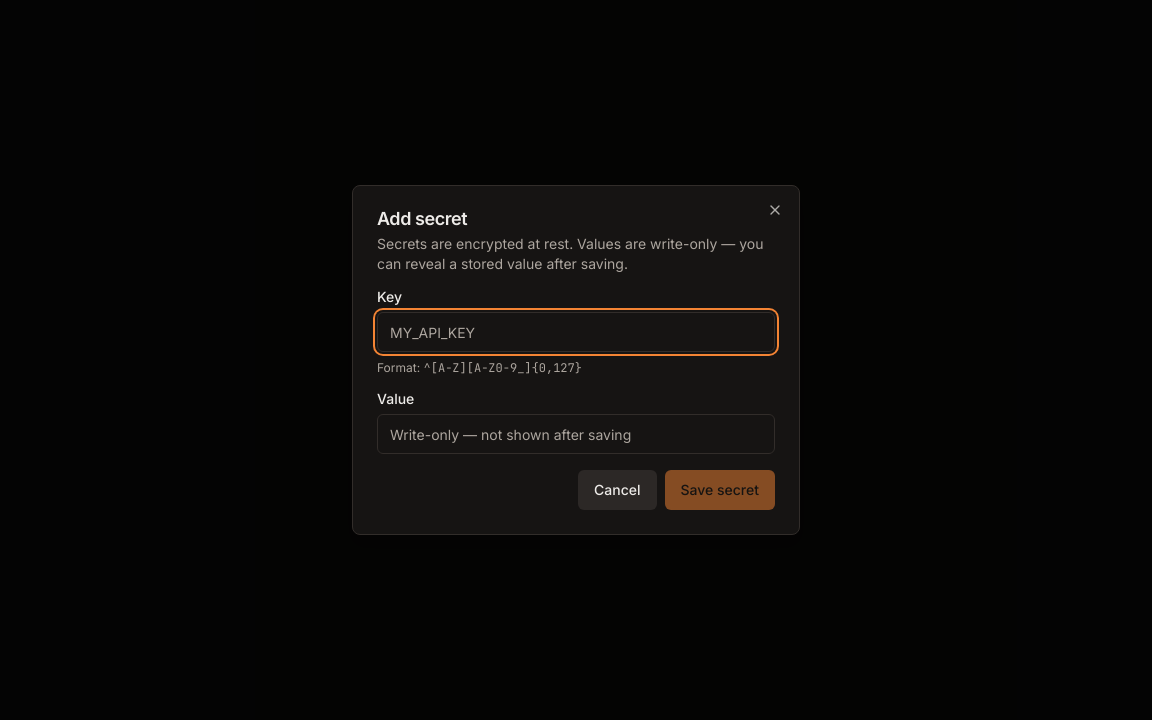
it: AddSecretModal — key pattern validation › rejects a key that starts with a lowercase letter
This screenshot has width=1152, height=720.
Note: type a lowercase key - component uppercases on change but validate checks
Type "invalid_key" into the field labelled "Key".
click(576, 332); type("invalid_key")  # box [377,312,775,352]
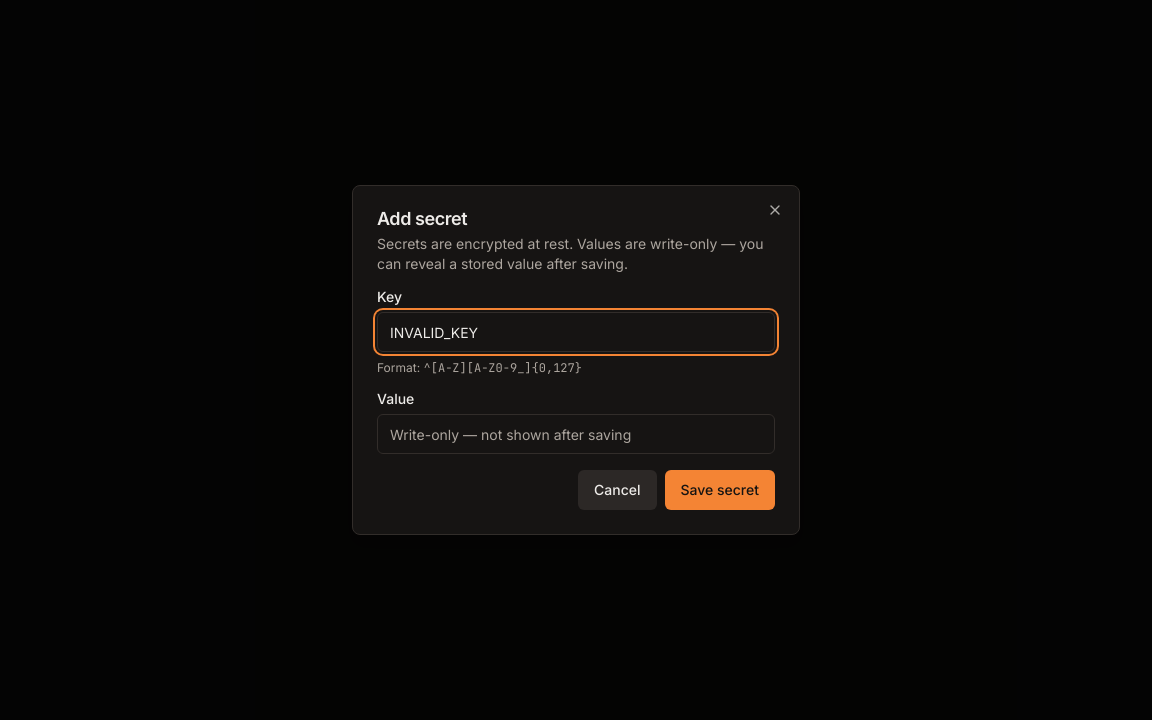
Replace the text in the field labelled "Key" with "1_BAD" at (576, 332), box [377,312,775,352]
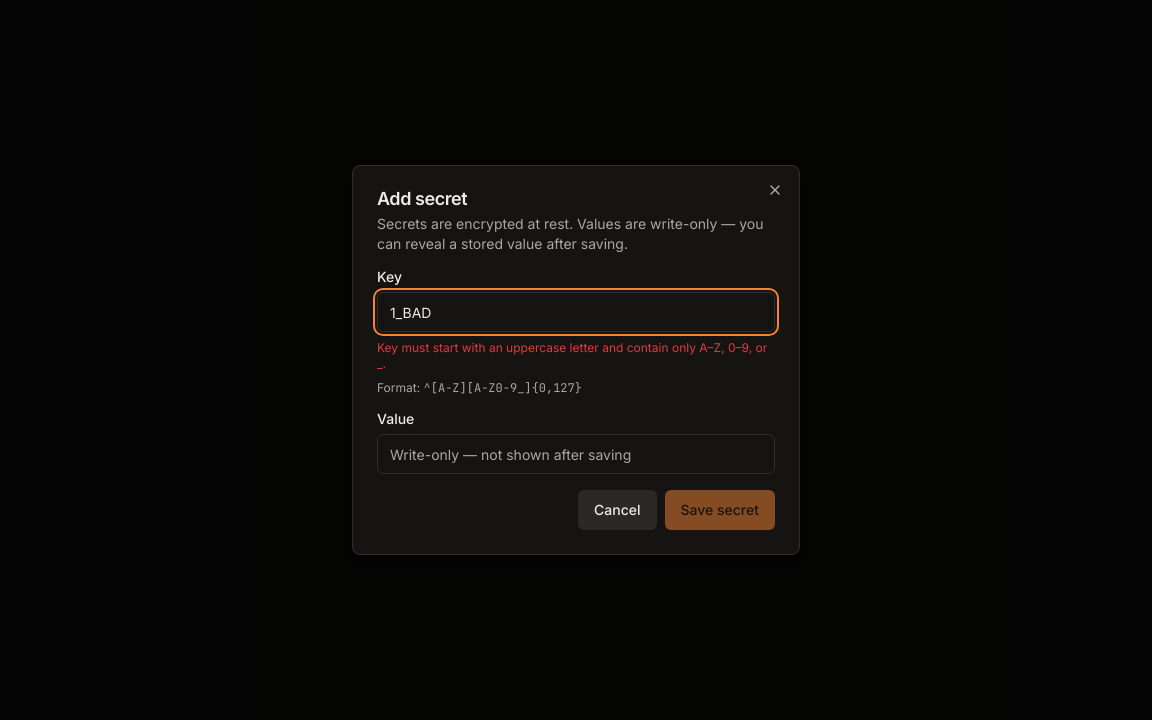
expect the message "Key must start with an uppercase letter and contain only A–Z, 0–9, or _." is shown: met, box [377,340,775,372]
